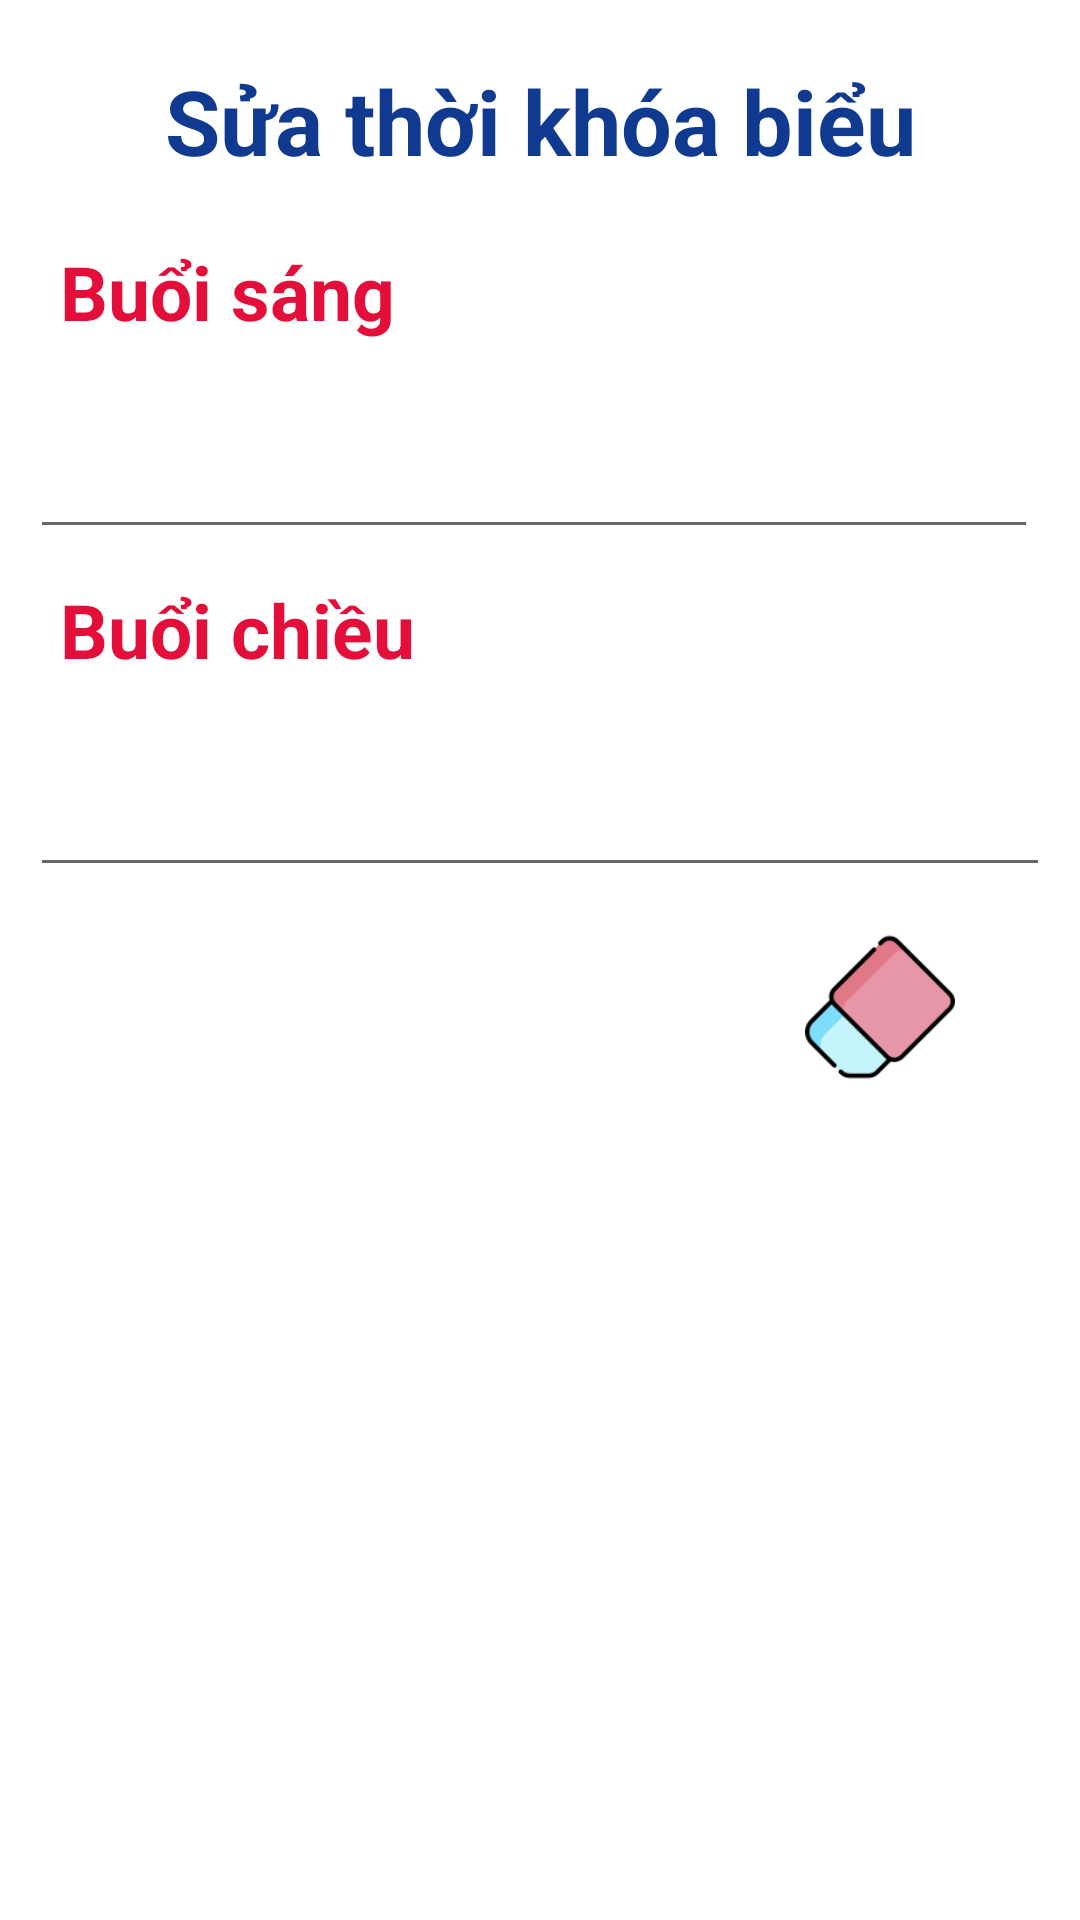

Icons on this 1080*1920 Android screen, each with its box as [x1=x1, y1=y1, x2=x2, y2=y2]:
eraser: [x1=805, y1=935, x2=955, y2=1079]
